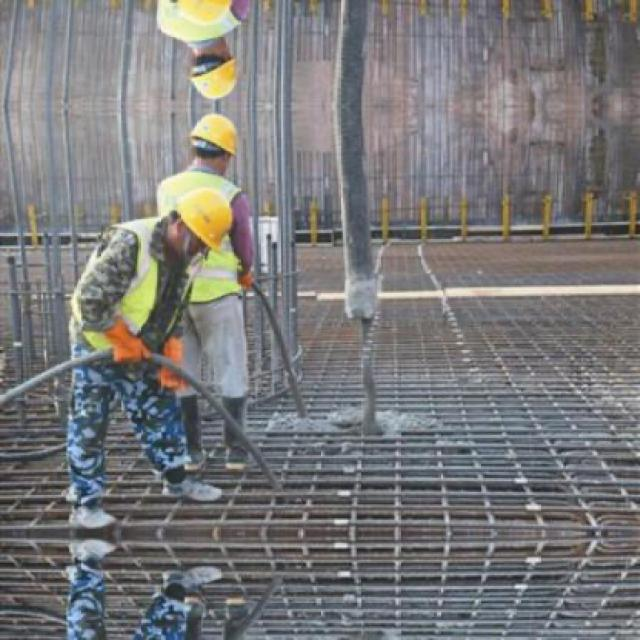Reflective-Jacket: (61, 214, 192, 392), (177, 234, 258, 312)
Safety-Helmet: (168, 179, 246, 256), (178, 106, 250, 164), (184, 50, 240, 101)
